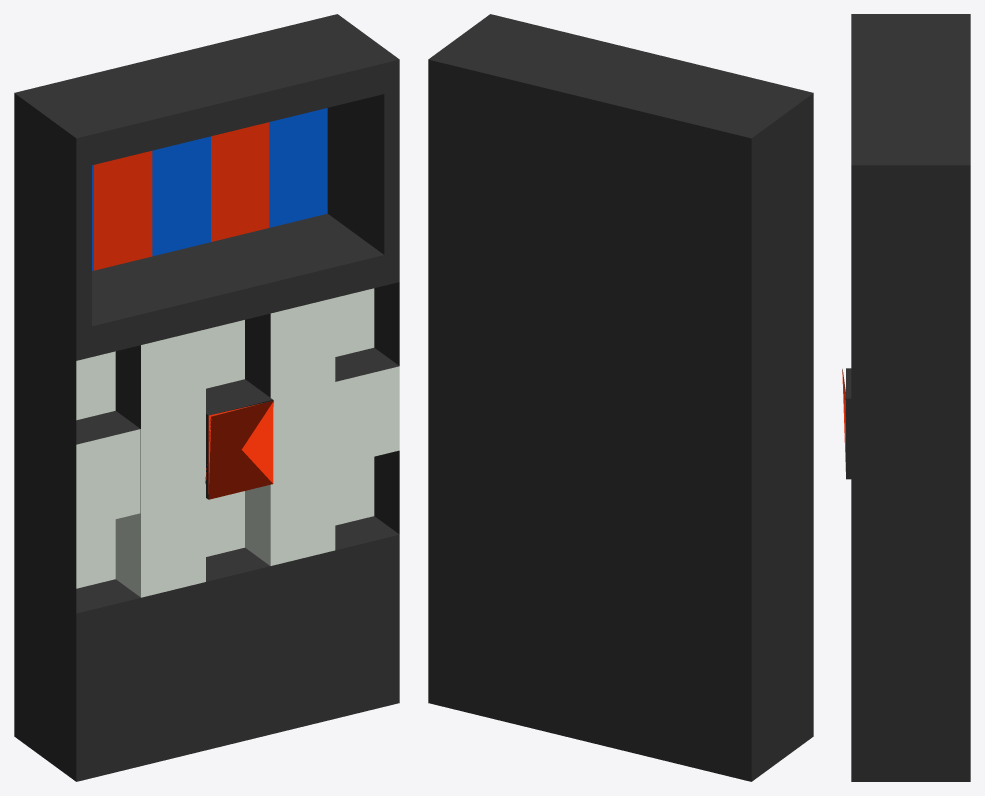
The picture shows the model from 3 angles, left to right: view 1: azimuth 30°, elevation 25°; view 2: azimuth 150°, elevation 25°; view 3: azimuth 270°, elevation 25°; orthographic projection. The views are drawn at different scales.
Parts seen in each view (by area): view 1: Cube; view 2: Cube; view 3: Cube.
Part boxes in pixels (bbox=[...]): Cube: bbox=[14, 14, 399, 781]; Cube: bbox=[428, 14, 813, 781]; Cube: bbox=[842, 14, 970, 781].
Size of the model in its own units: 600 by 1142 by 215.
